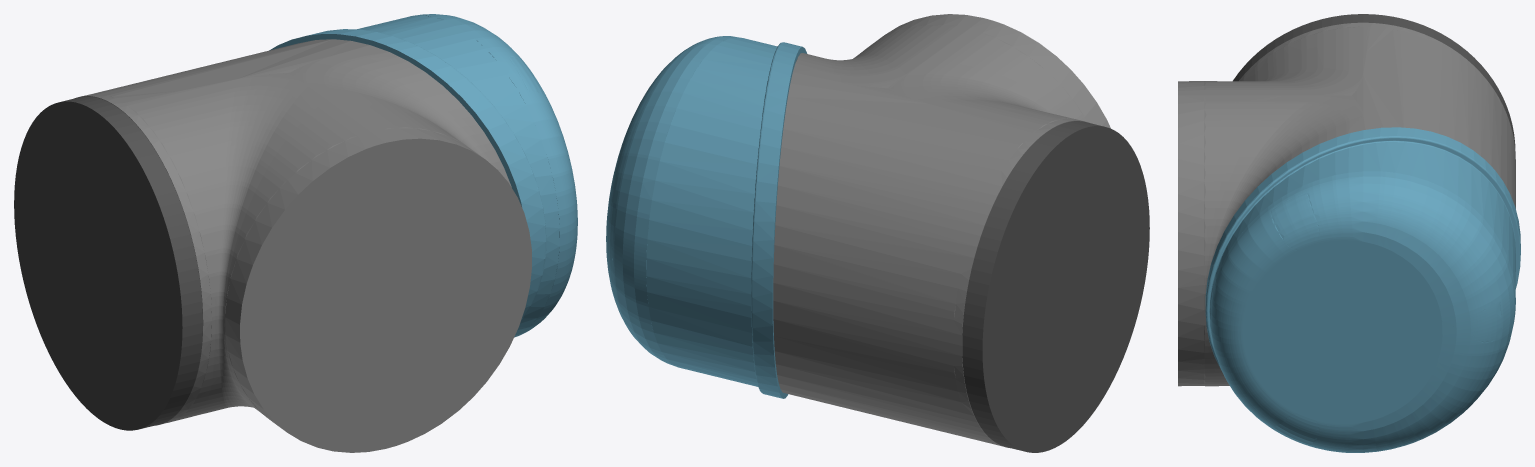
Rendered from Wrist1.dae.
The picture shows the model from 3 angles, left to right: view 1: azimuth 30°, elevation 25°; view 2: azimuth 150°, elevation 25°; view 3: azimuth 270°, elevation 25°; orthographic projection. The views are drawn at different scales.
Parts seen in each view (by area): view 1: node7, node8; view 2: node7, node8; view 3: node8, node7.
Part boxes in pixels (left/top/right/bottom): node7: left=14, top=39, right=531, bottom=452; node8: left=269, top=14, right=577, bottom=337; node7: left=773, top=14, right=1149, bottom=452; node8: left=606, top=36, right=807, bottom=398; node8: left=1205, top=127, right=1520, bottom=452; node7: left=1178, top=14, right=1515, bottom=386.
Bounding box in the file's own units: 0.1047 × 0.0842 × 0.0775.
